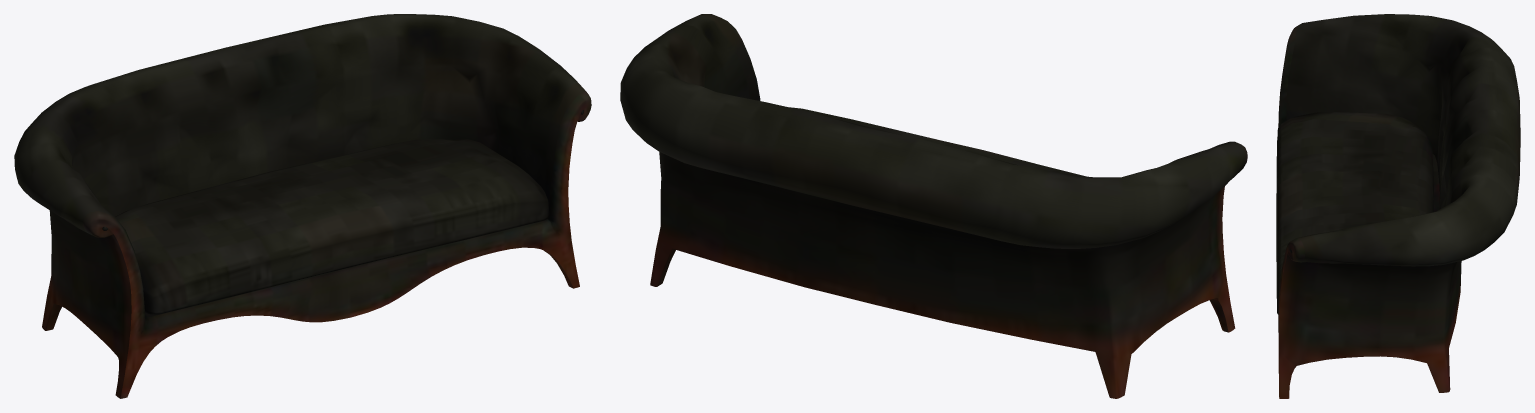
The picture shows the model from 3 angles, left to right: view 1: azimuth 30°, elevation 25°; view 2: azimuth 150°, elevation 25°; view 3: azimuth 270°, elevation 25°; orthographic projection. The views are drawn at different scales.
Visible parts, largest first — view 1: sofa_02_Base, sofa_02_Seat; view 2: sofa_02_Base, sofa_02_Seat; view 3: sofa_02_Base, sofa_02_Seat.
Part boxes in pixels (x1=…): sofa_02_Base: x1=14, y1=14, x2=591, y2=398; sofa_02_Seat: x1=115, y1=139, x2=549, y2=314; sofa_02_Base: x1=620, y1=14, x2=1247, y2=398; sofa_02_Seat: x1=789, y1=107, x2=1086, y2=176; sofa_02_Base: x1=1278, y1=14, x2=1520, y2=398; sofa_02_Seat: x1=1276, y1=112, x2=1433, y2=314.
Size of the model in its own units: 1.81 by 0.7095 by 0.8178.
Materials: 1 (1 with a texture image).
